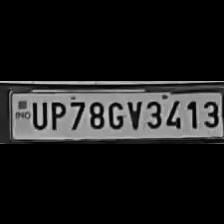1: (182, 97, 198, 128)
3: (200, 96, 220, 128), (143, 96, 161, 130)
4: (164, 96, 182, 128)
7: (65, 96, 84, 130)
8: (86, 97, 106, 129)
G: (106, 97, 124, 129)
P: (46, 97, 66, 129)
U: (28, 97, 48, 129)
V: (124, 96, 142, 130)
